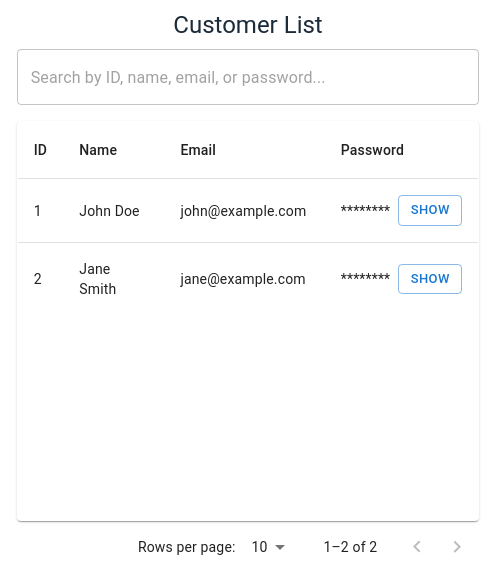
search functionality filters customers
The image size is (497, 572).
Expected: the text "John Doe" is shown, [63,179,164,242]
Type "Jane" into the field with placeholder "Search by ID, name, email, or password..." at x=237, y=77, box [17,49,457,105]
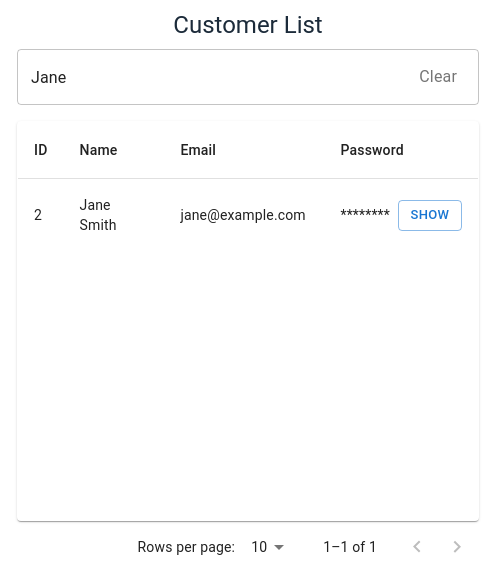
Expected: the text "Jane Smith" is shown, [64,179,164,252]
Expected: the text "John Doe" is gone
